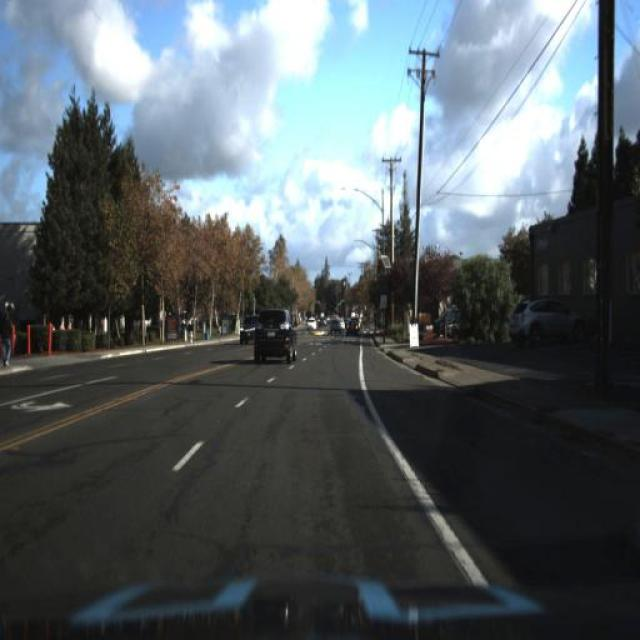car: (498, 286, 586, 354), (247, 296, 299, 369), (232, 308, 259, 349), (345, 316, 364, 342), (344, 318, 362, 339), (302, 314, 320, 334)
